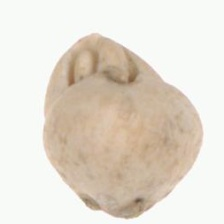L1: (65, 34, 139, 86), (81, 196, 148, 220)
L2: (42, 32, 204, 219)
